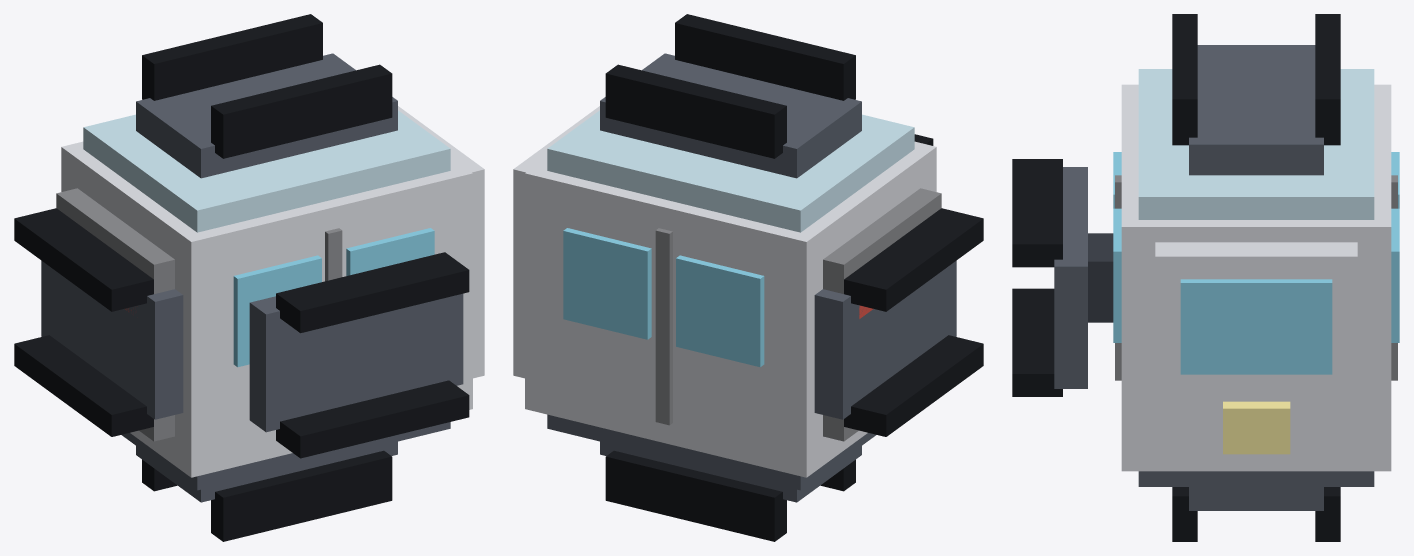
The picture shows the model from 3 angles, left to right: view 1: azimuth 30°, elevation 25°; view 2: azimuth 150°, elevation 25°; view 3: azimuth 270°, elevation 25°; orthographic projection. The views are drawn at different scales.
Visible parts, largest first — view 1: body.005, side, above, sidex, below; view 2: body.005, above, sidex, below; view 3: body.005, above, side, below.
Part boxes in pixels (x1,y1,x2,y2): body.005: (56, 106, 484, 490); side: (249, 252, 469, 458); above: (136, 14, 397, 178); sidex: (14, 208, 183, 436); below: (136, 441, 397, 541); body.005: (513, 106, 941, 490); above: (600, 14, 861, 178); sidex: (814, 208, 983, 436); below: (600, 441, 861, 541); body.005: (1113, 69, 1399, 486); above: (1172, 14, 1340, 175); side: (1012, 159, 1113, 396); below: (1172, 487, 1340, 541).
Bounding box in the file's own units: 0.8594 × 0.9062 × 0.7188.
